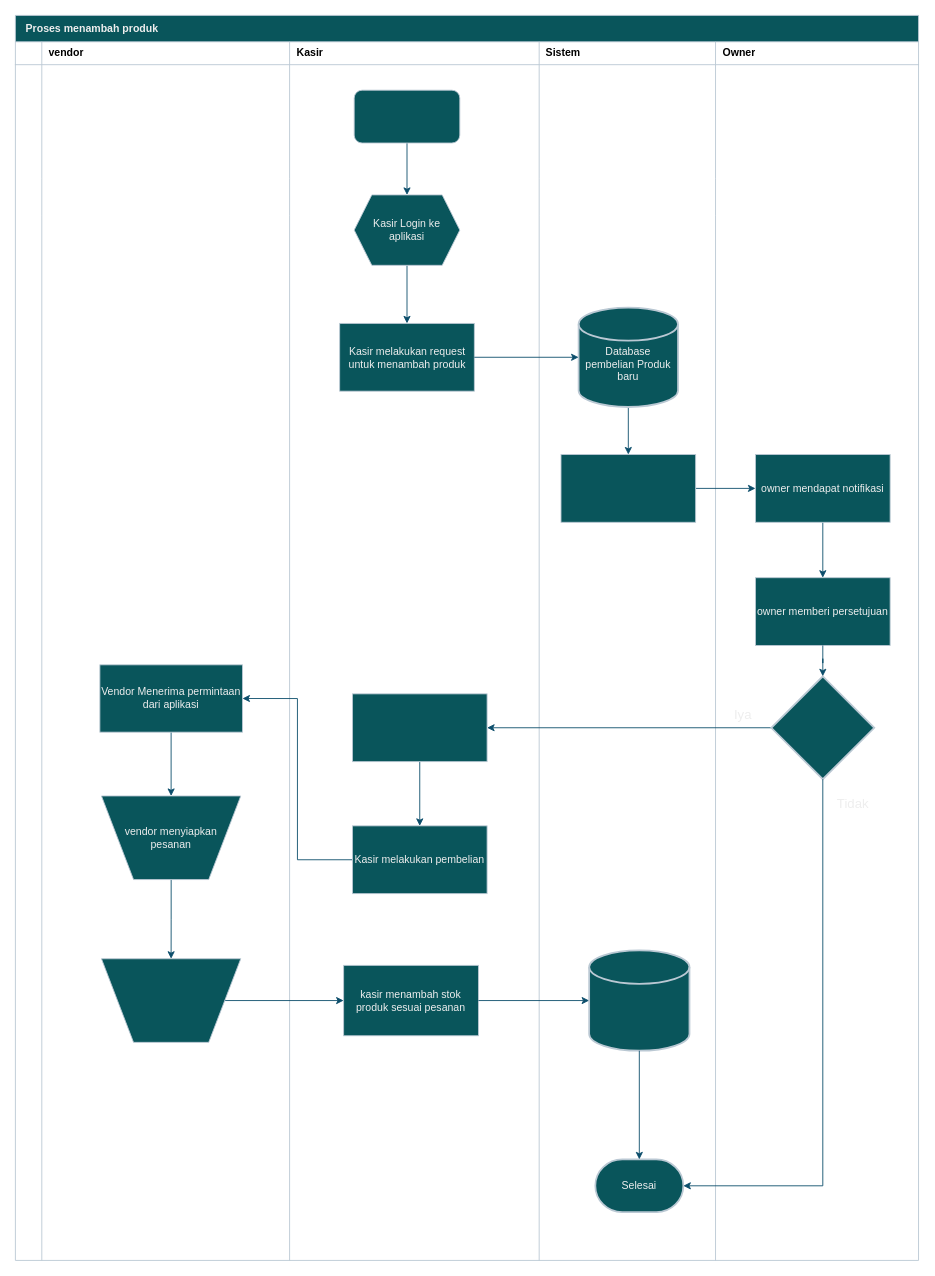
This 935x1276 diagram has some shape labels left out. Each missing label, with the centre of its shape:
Database produk: (x=639, y=1000)
Disetujui: (x=822, y=727)
Kasir membuat PO dan pembayaran: (x=419, y=727)
Mulai: (x=406, y=116)
Sistem memberi notifikasi ke owner soal request: (x=628, y=488)
vendor mengirim barang pesanan serta notanya: (x=171, y=1000)
